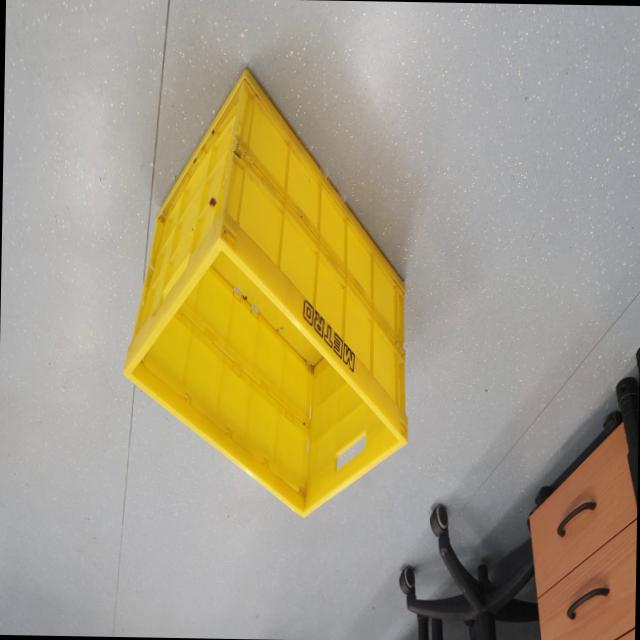box: (112, 21, 423, 536)
